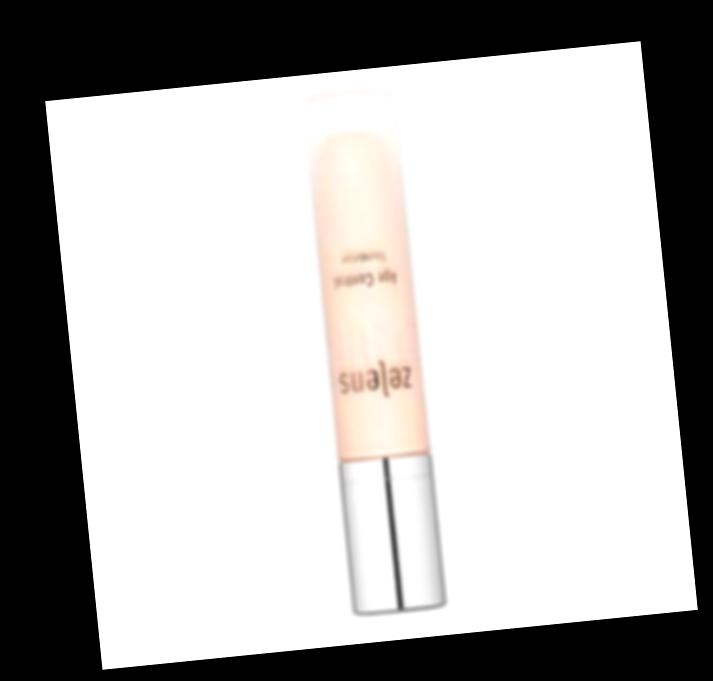cosmetic: (297, 85, 448, 618)
